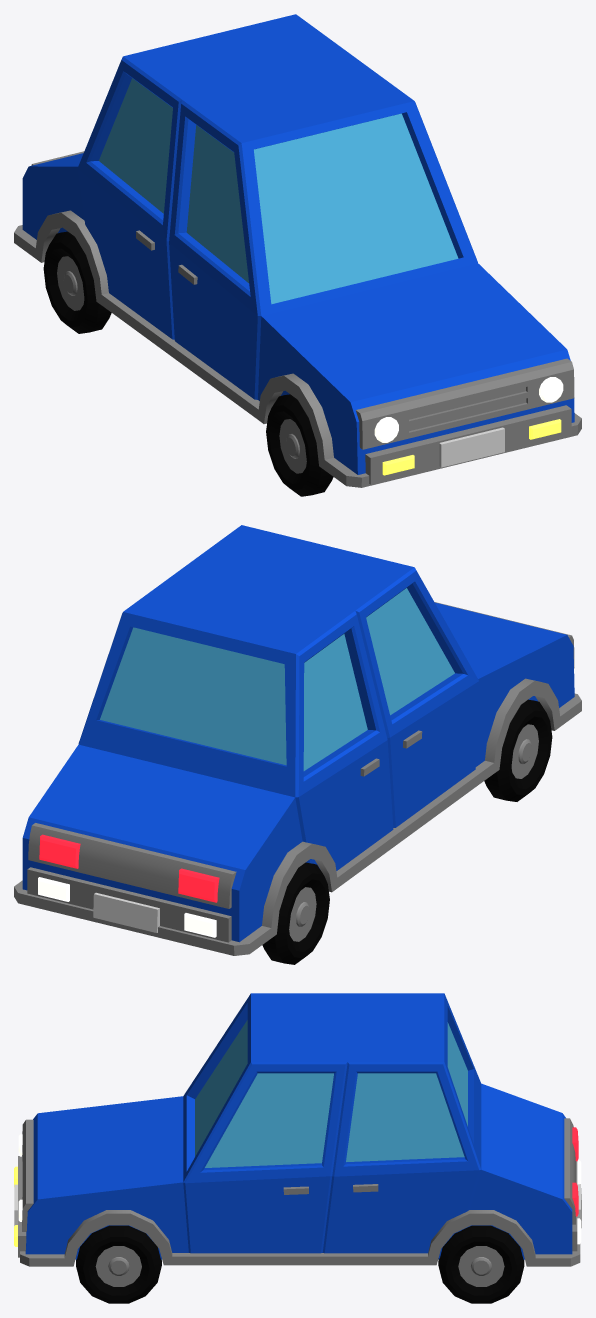
The model's file is Carro-Azul.fbx.
The picture shows the model from 3 angles, top to bottom: view 1: azimuth 30°, elevation 25°; view 2: azimuth 150°, elevation 25°; view 3: azimuth 270°, elevation 25°; orthographic projection. The views are drawn at different scales.
Parts seen in each view (by area): view 1: Cube, Cylinder.001, Cylinder, Cube.002, Cube.001, Cube.003, Cylinder.002, Cube.004; view 2: Cube, Cylinder.001, Cylinder, Cube.009, Cube.006, Cube.010, Cube.007, Cube.008; view 3: Cube, Cylinder, Cylinder.001, Cube.002, Cube.009, Cube.005, Cube.001.
Part boxes in pixels (x1,y1,x2,y2): Cube: [22, 14, 574, 474]; Cylinder.001: [14, 210, 581, 487]; Cylinder: [43, 231, 333, 496]; Cube.002: [355, 358, 574, 449]; Cube.001: [365, 405, 571, 484]; Cube.003: [439, 427, 504, 467]; Cylinder.002: [374, 377, 563, 442]; Cube.004: [382, 419, 561, 475]; Cube: [22, 525, 574, 942]; Cylinder.001: [14, 678, 581, 955]; Cylinder: [262, 699, 552, 964]; Cube.009: [28, 823, 236, 908]; Cube.006: [27, 867, 231, 942]; Cube.010: [39, 834, 219, 902]; Cube.007: [93, 892, 159, 932]; Cube.008: [38, 877, 216, 937]; Cube: [25, 993, 572, 1259]; Cylinder: [76, 1225, 524, 1303]; Cylinder.001: [20, 1210, 580, 1266]; Cube.002: [22, 1119, 33, 1231]; Cube.009: [564, 1118, 575, 1224]; Cube.005: [283, 1184, 378, 1194]; Cube.001: [18, 1156, 26, 1257].
Size of the model in its own units: 360 by 402 by 896.
